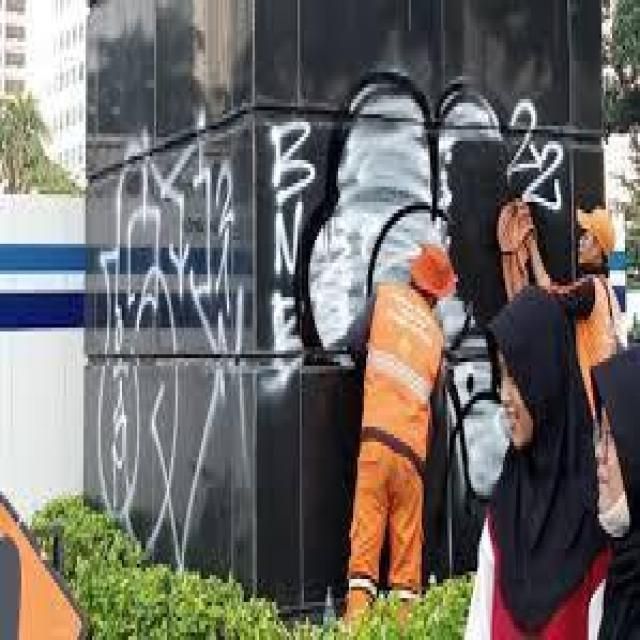nonspitting: (308, 76, 562, 504), (96, 111, 248, 574), (272, 118, 317, 389)
